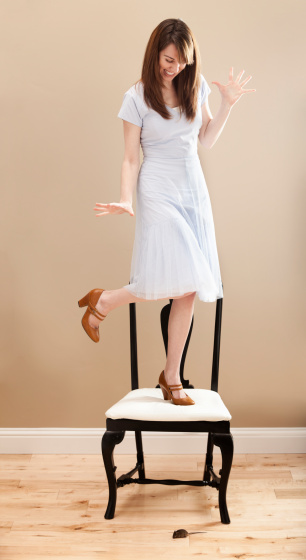em pe: (85, 9, 238, 452)
